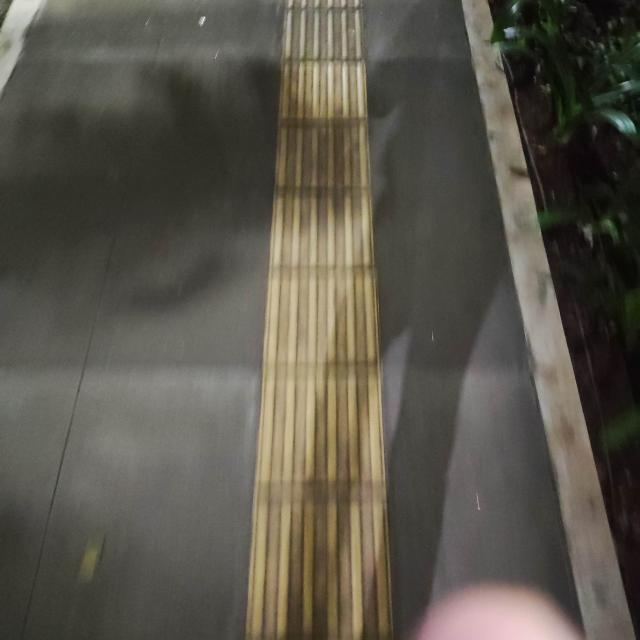lurus: (236, 24, 404, 640)
